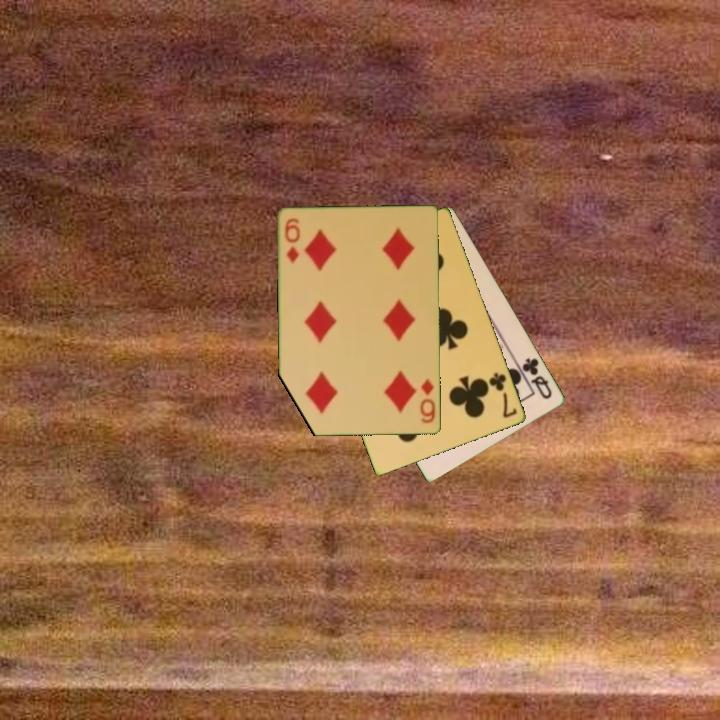6d: (281, 215, 303, 266), (417, 375, 438, 426)
7c: (486, 369, 520, 421)
Qc: (514, 354, 555, 402)
